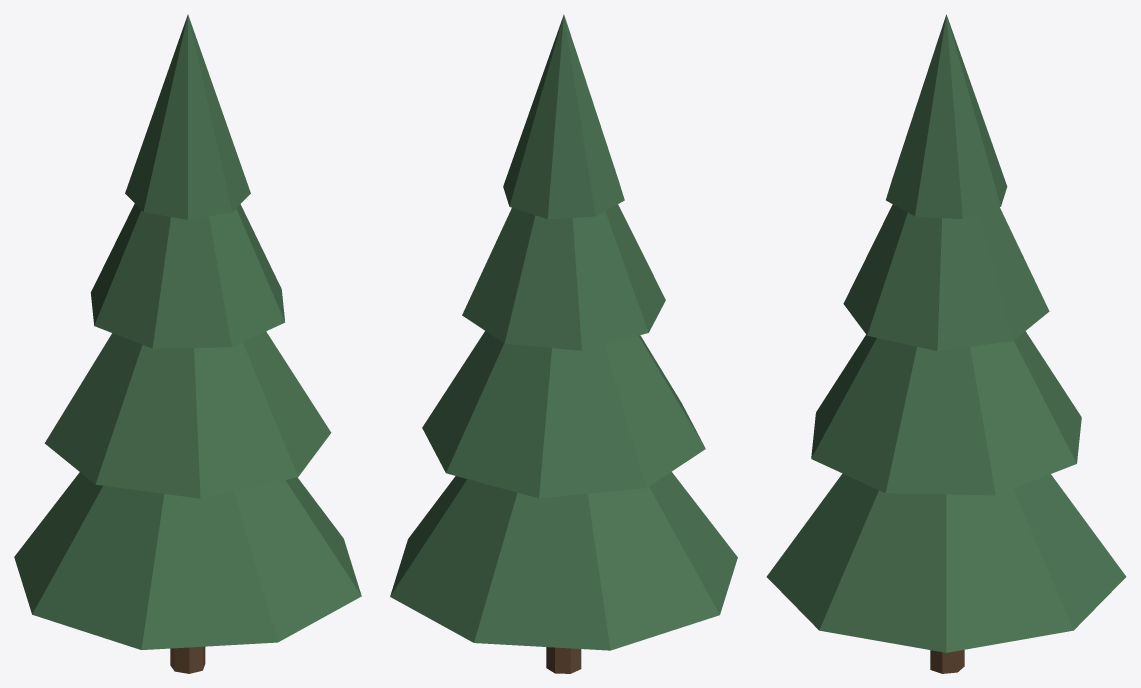
The model's file is tree_pine.glb.
The picture shows the model from 3 angles, left to right: view 1: azimuth 30°, elevation 25°; view 2: azimuth 150°, elevation 25°; view 3: azimuth 270°, elevation 25°; orthographic projection.
Visible parts, largest first — view 1: tree_pine; view 2: tree_pine; view 3: tree_pine.
Boxes of the visible parts, bbox=[...] form: tree_pine: bbox=[14, 14, 361, 673]; tree_pine: bbox=[390, 14, 737, 673]; tree_pine: bbox=[766, 14, 1126, 673].
Bounding box in the file's own units: 4 × 8 × 4.
